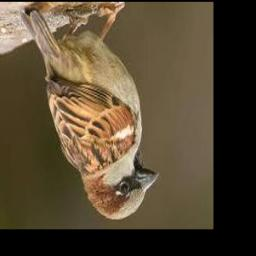Sparrow: (20, 5, 160, 220)
